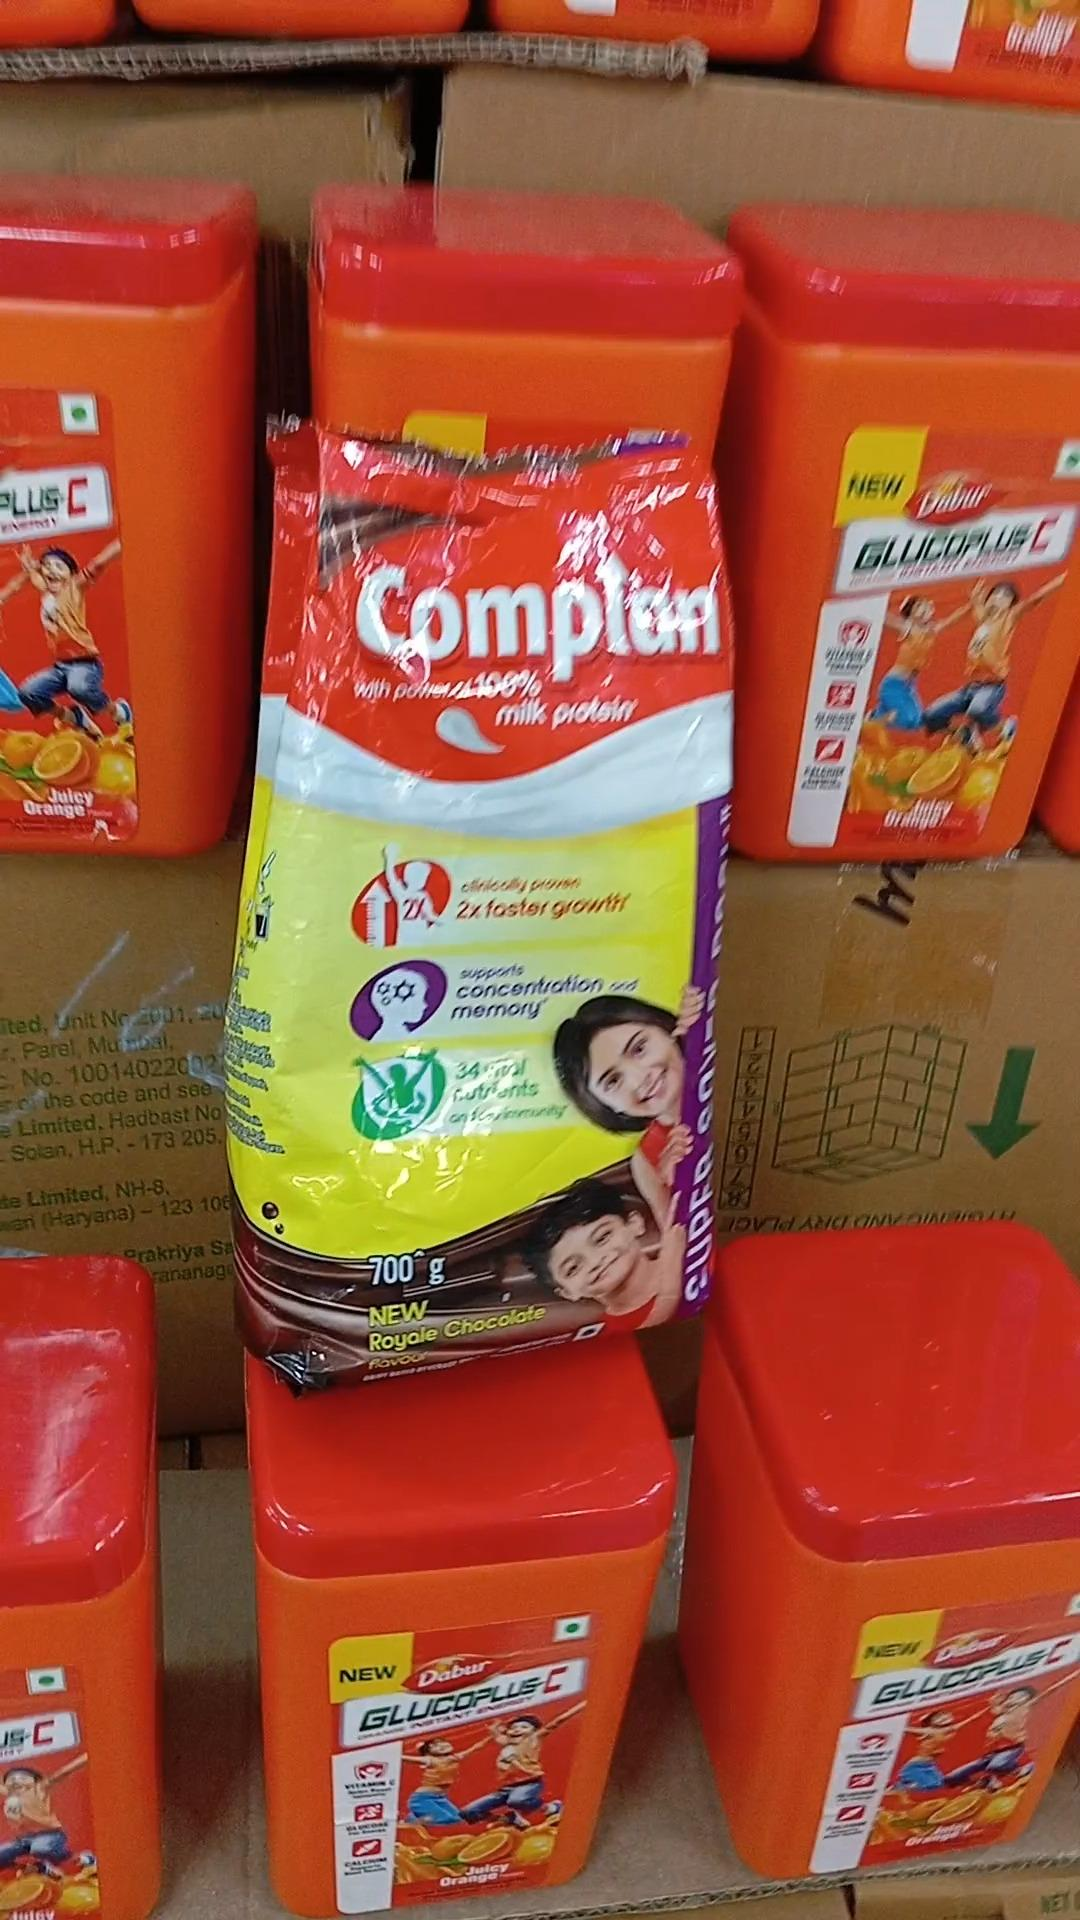COMPLAN_RC_POUCH_700_GMS_12: (251, 440, 717, 1332)
